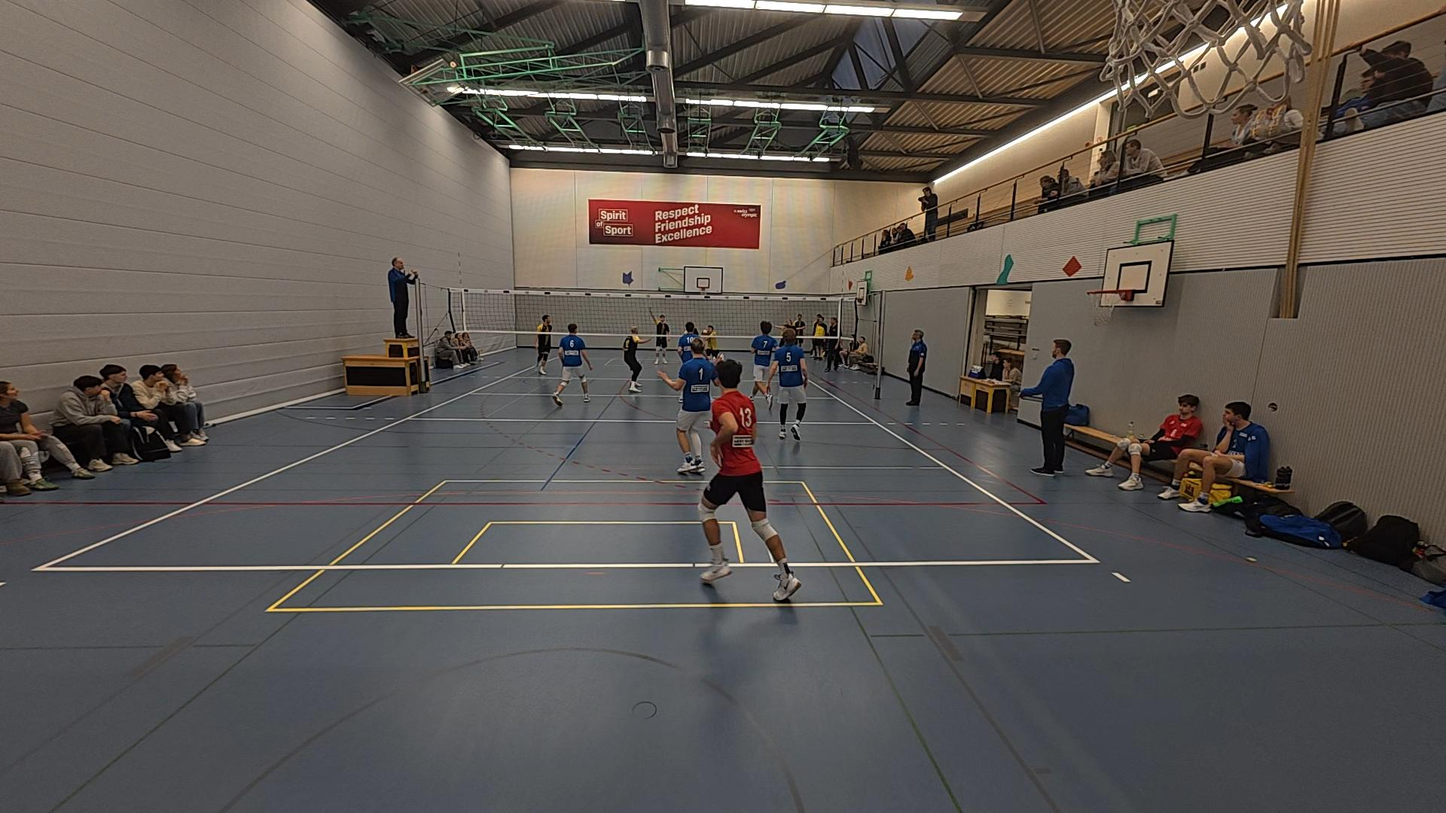ricezione: (699, 322, 725, 364)
